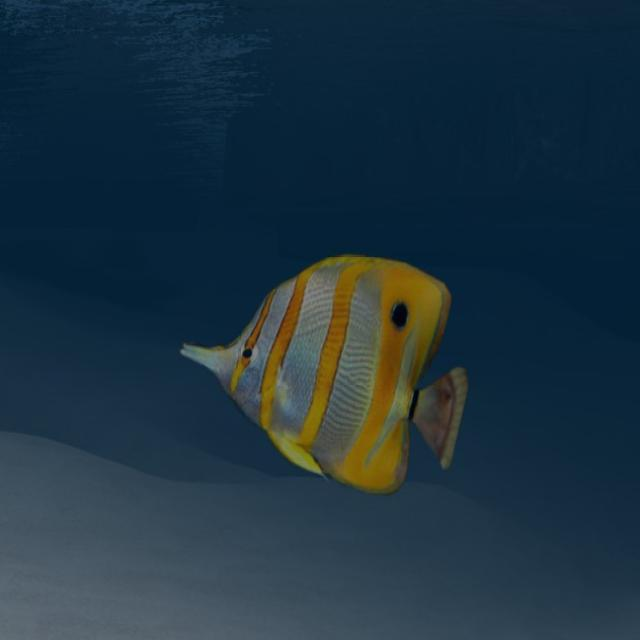ButterflyFish: (185, 256, 465, 499)
